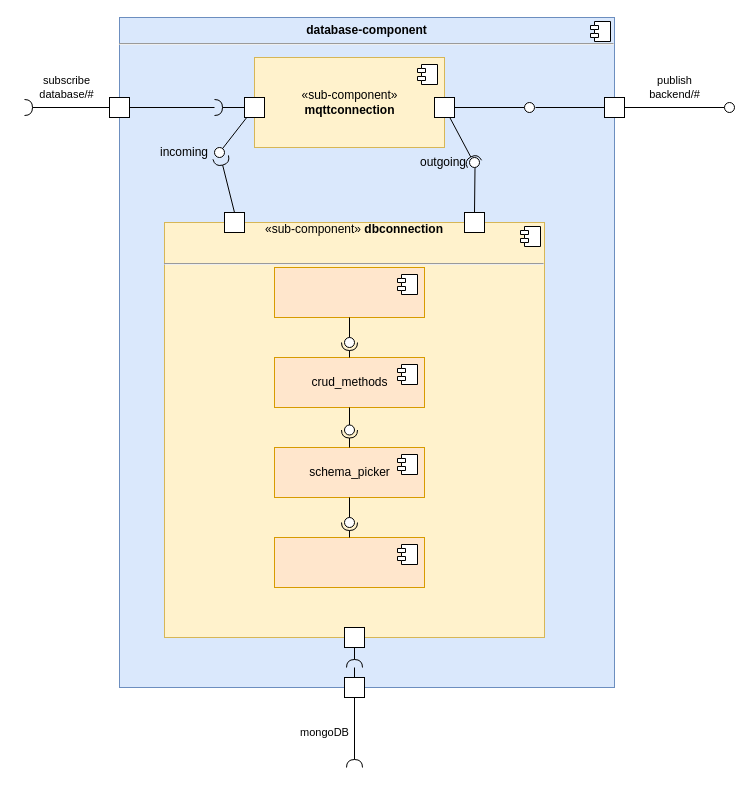
Some shapes in this 752 by 793 pixel diagram are drawn without their labels. Each missing label, with the centre of its shape:
"database_handler" goes at point (349, 292).
"schemas" goes at point (349, 562).
